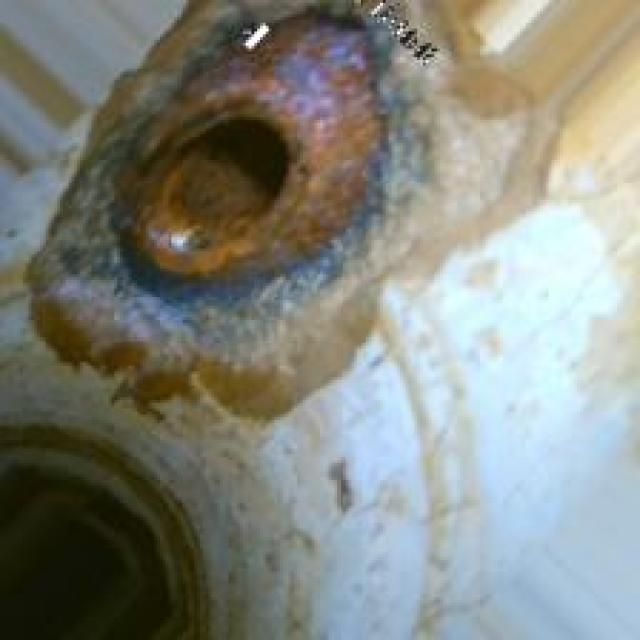ferrule: (91, 40, 383, 283)
